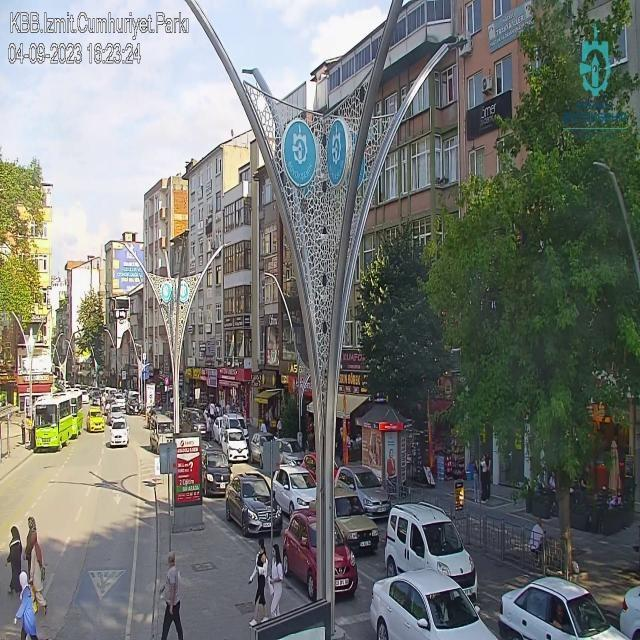Bus: (31, 393, 73, 452), (66, 387, 83, 440)
Car: (383, 500, 480, 601), (369, 569, 498, 640), (500, 576, 633, 640), (282, 509, 358, 600), (226, 473, 282, 536), (336, 465, 392, 522), (334, 487, 379, 556), (273, 464, 319, 514), (202, 449, 234, 497), (618, 585, 640, 640), (220, 428, 252, 464), (149, 412, 174, 451), (253, 433, 274, 467), (110, 418, 130, 447), (88, 406, 106, 434), (211, 417, 222, 442), (108, 405, 124, 422)
